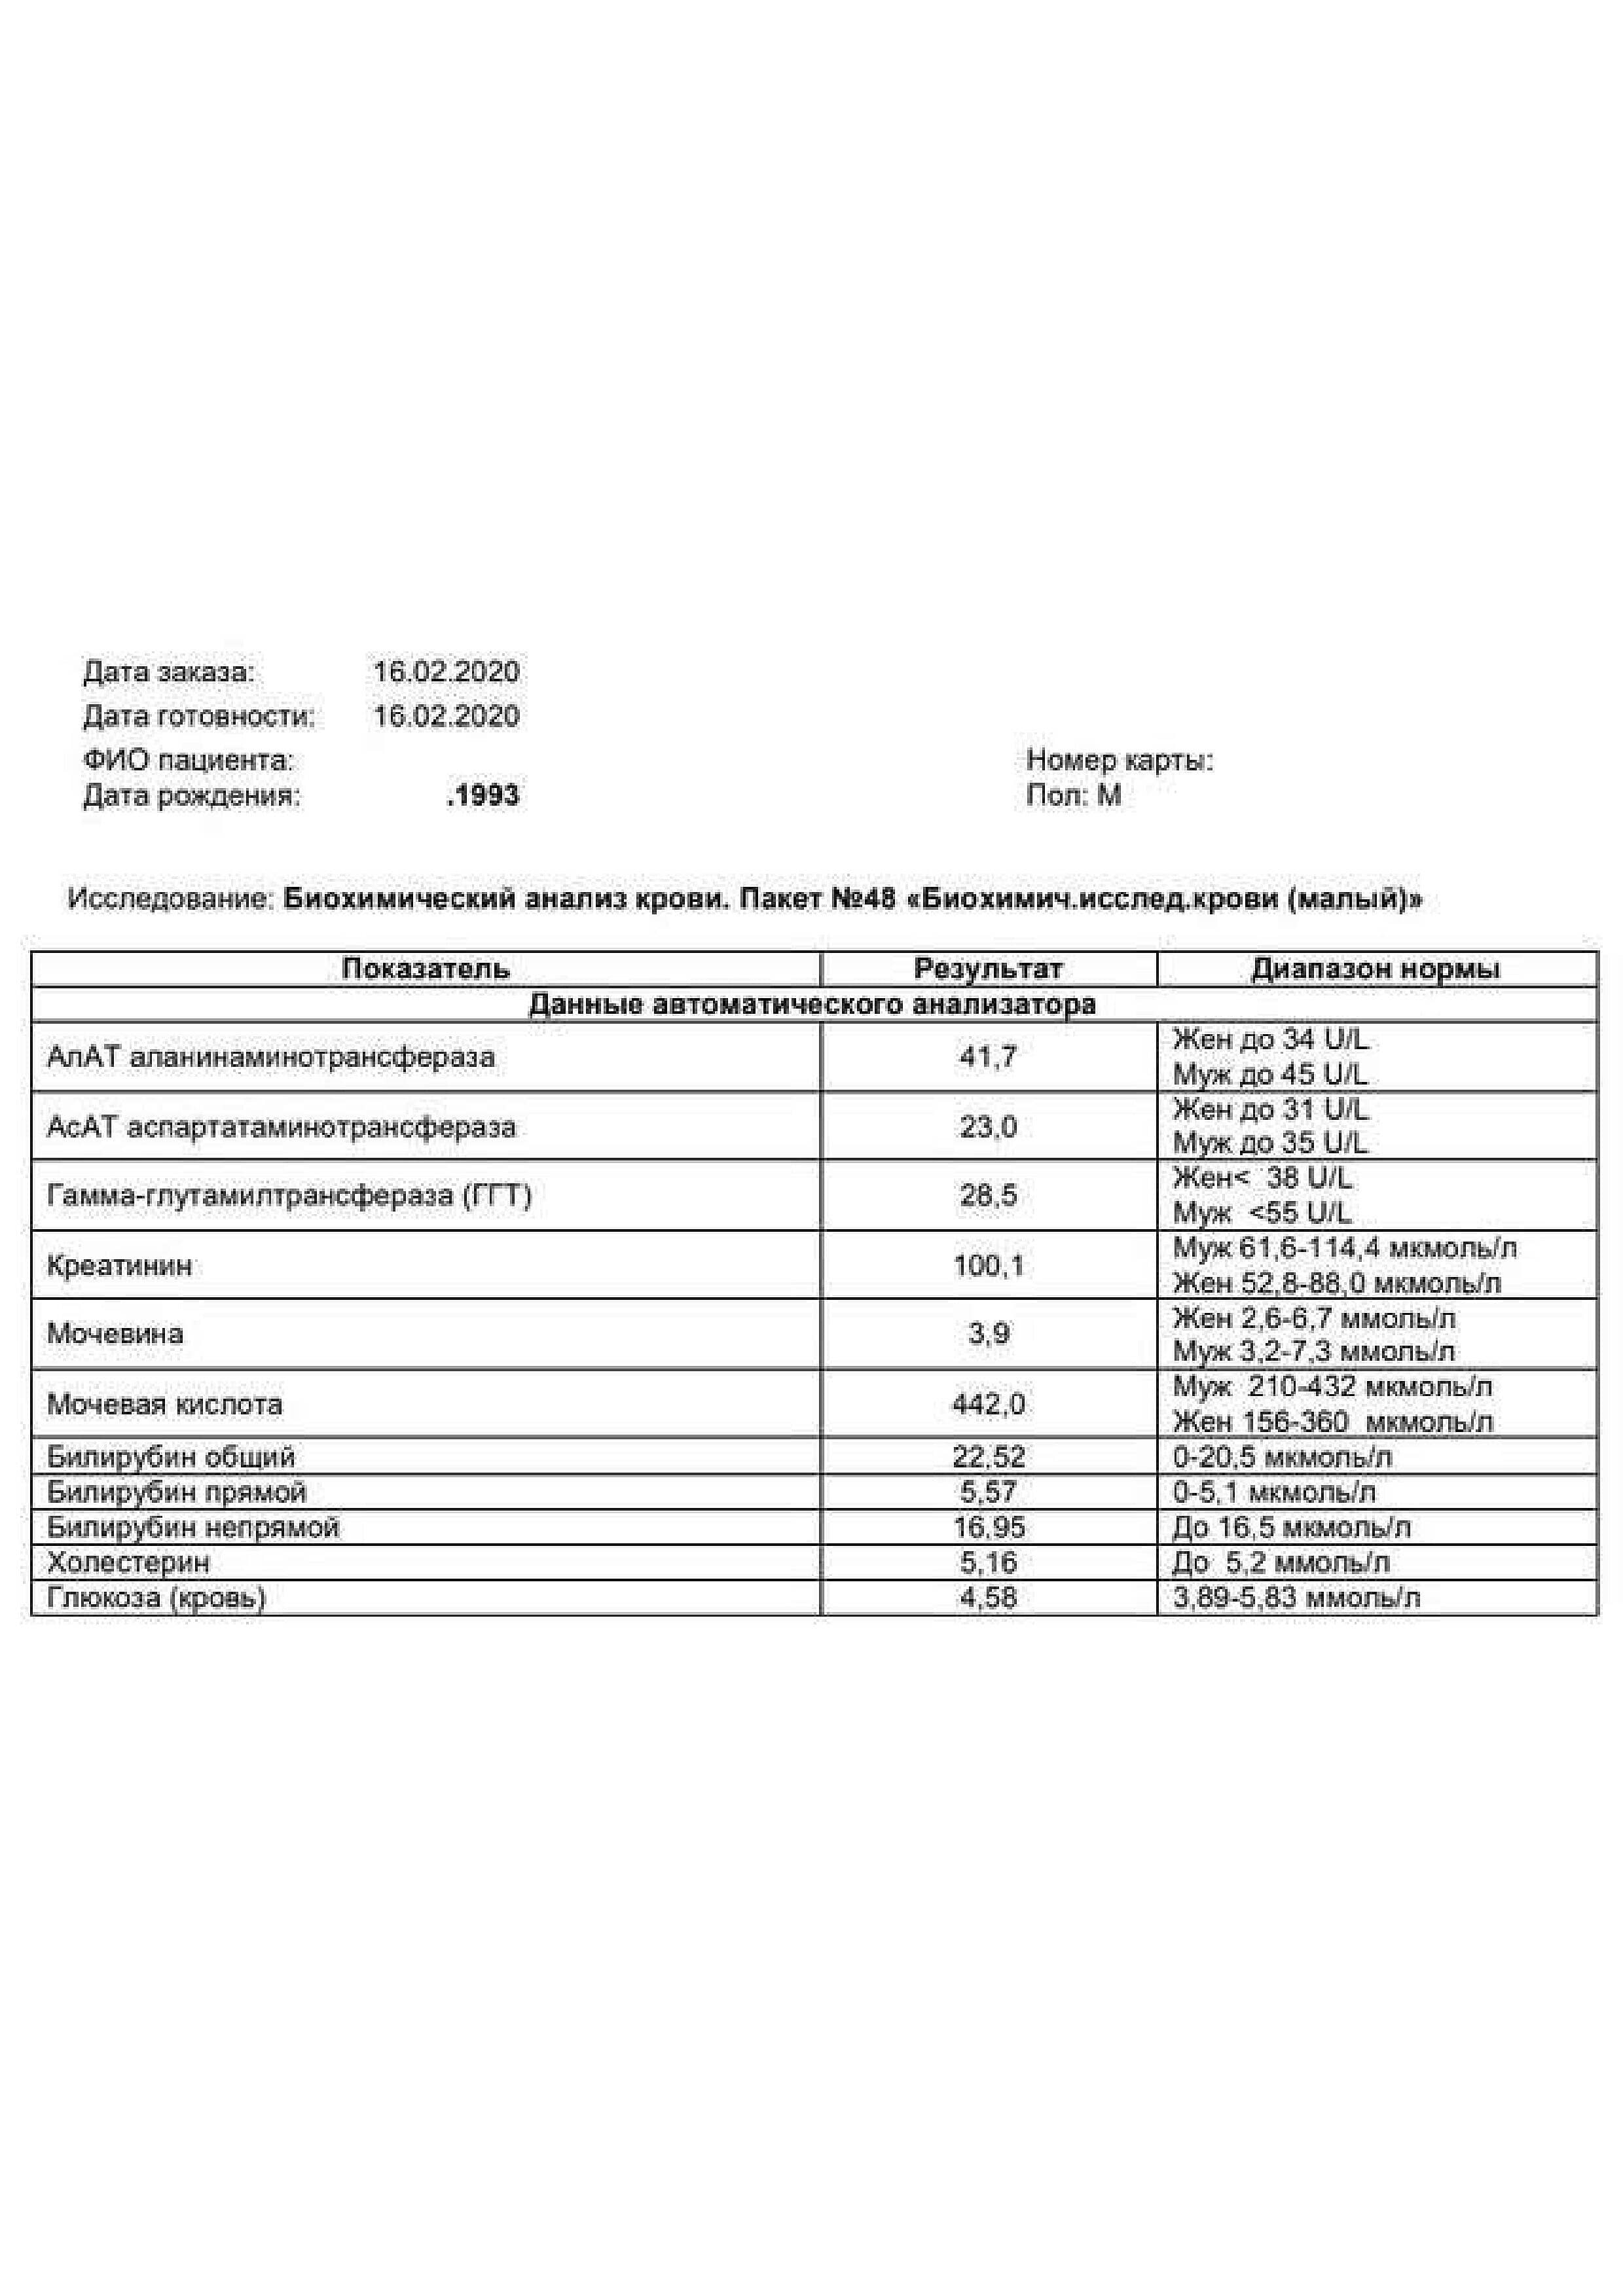column: (44, 1022, 532, 1615), (1170, 1022, 1518, 1615), (952, 1022, 1026, 1615), (1252, 955, 1500, 985), (343, 955, 509, 985), (915, 955, 1064, 985)
